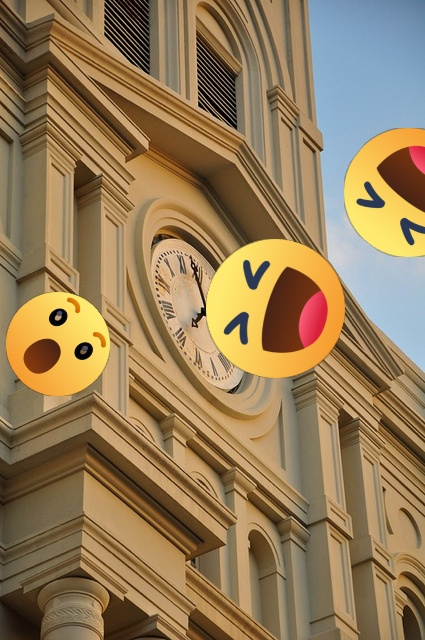haha: (206, 239, 345, 378), (344, 128, 425, 257)
wow: (6, 292, 110, 396)
